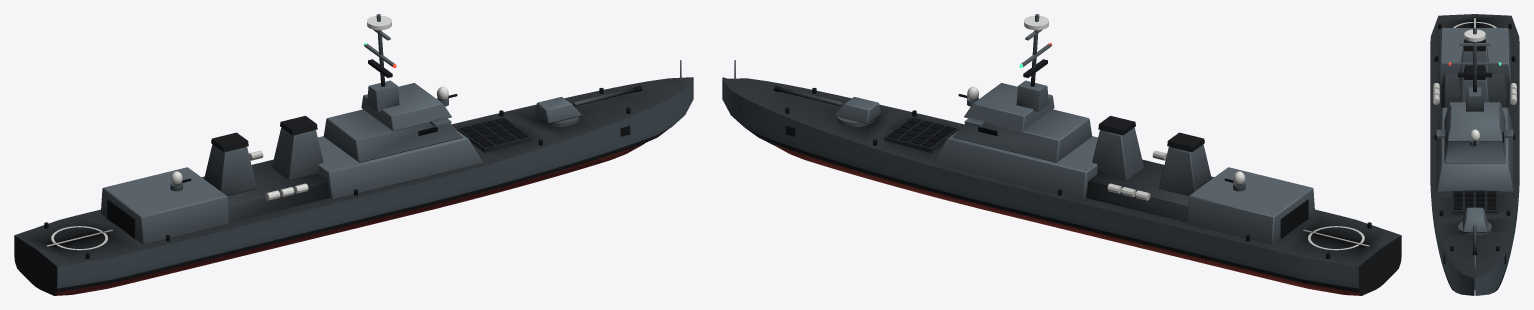
The model's file is destroyer.glb.
3 renders of one model, left to right at view 1: azimuth 30°, elevation 25°; view 2: azimuth 150°, elevation 25°; view 3: azimuth 270°, elevation 25°, orthographic. The views are drawn at different scales.
Visible parts, largest first — view 1: destroyer; view 2: destroyer; view 3: destroyer.
Part boxes in pixels (bbox=[...]): destroyer: bbox=[14, 14, 693, 295]; destroyer: bbox=[722, 14, 1401, 295]; destroyer: bbox=[1430, 14, 1519, 295].
Size of the model in its own units: 4.2 by 1.2 by 0.58.
